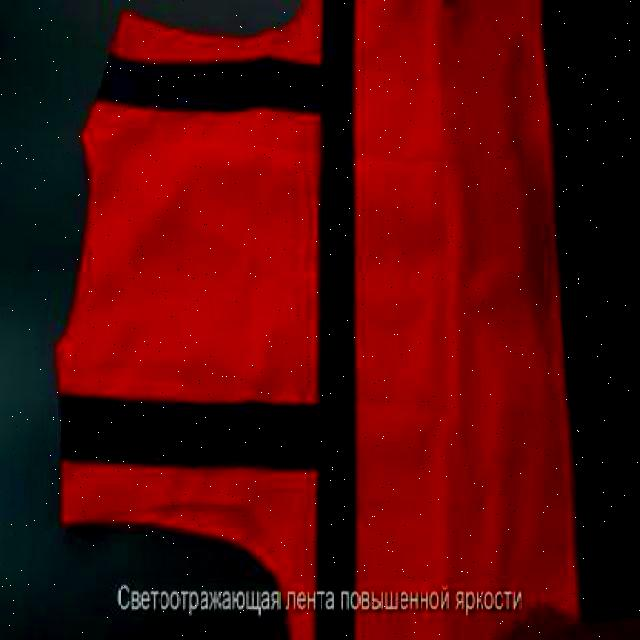Mask: (54, 0, 583, 638)
